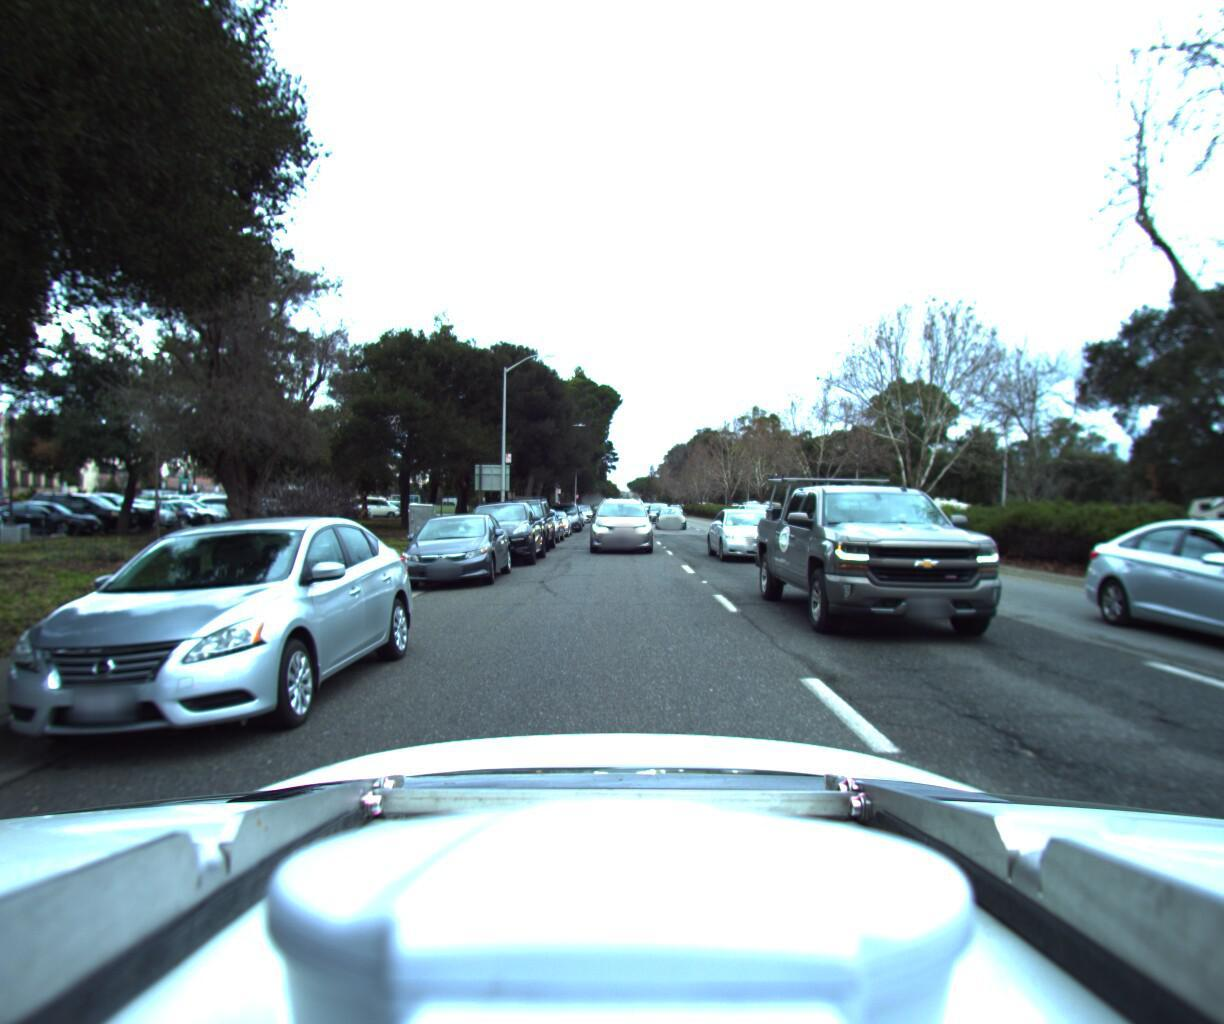car: (0, 508, 420, 770), (745, 453, 1044, 655), (1095, 507, 1224, 692), (391, 505, 516, 585), (452, 493, 547, 562), (700, 500, 796, 560), (481, 487, 555, 548), (588, 486, 655, 548), (511, 499, 563, 542), (529, 500, 571, 532), (542, 494, 580, 527), (652, 499, 687, 522)
other_vehicle: (1174, 473, 1224, 555), (910, 489, 964, 519)
